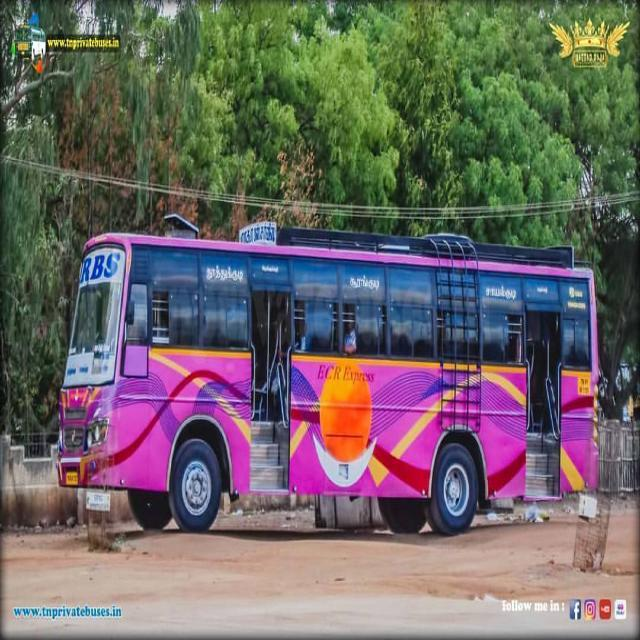Bus: (55, 221, 602, 535)
